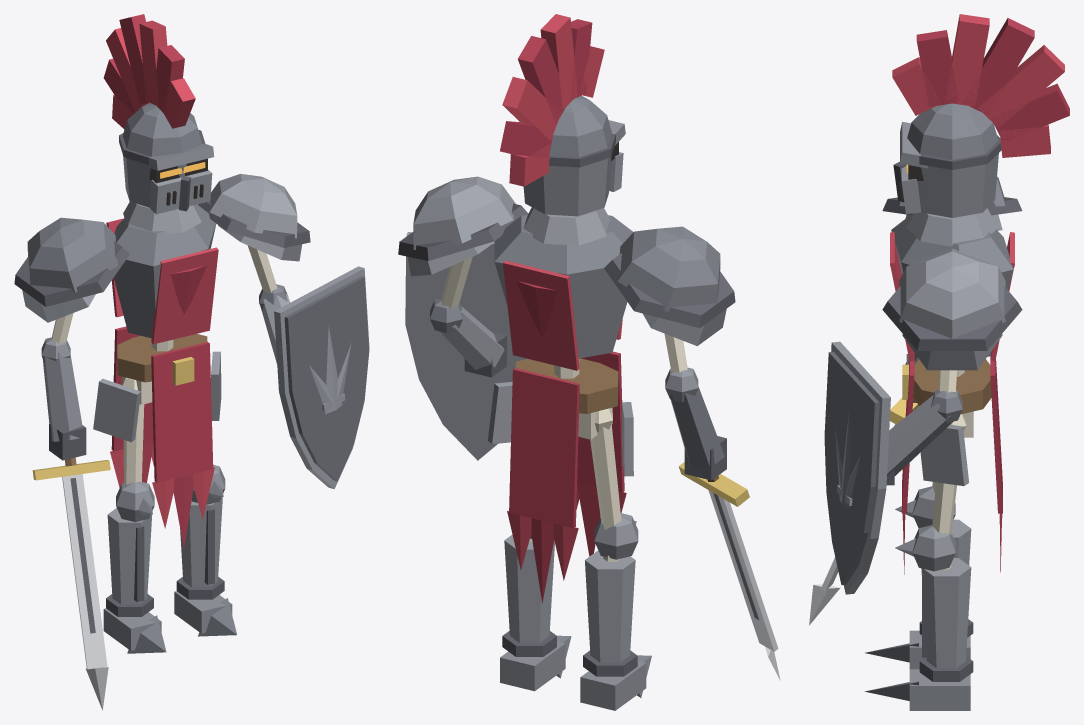
File: rattlecoat.glb
3 views of the same model, side by side, from view 1: azimuth 30°, elevation 25°; view 2: azimuth 150°, elevation 25°; view 3: azimuth 270°, elevation 25° (orthographic). The views are drawn at different scales.
Visible parts, largest first — view 1: rattlecoat_3_mat_5a5f6b, rattlecoat_2_mat_3d414b, rattlecoat_8_mat_840f1a, rattlecoat_12_mat_2e3038, rattlecoat_1_mat_4c505b, rattlecoat_7_mat_b01622, rattlecoat_4_mat_23242b, rattlecoat_11_mat_c4c9d2, rattlecoat_0_mat_eadcb6, rattlecoat_5_mat_4a2c16, rattlecoat_6_mat_d8a030, rattlecoat_9_glow_060505; view 2: rattlecoat_3_mat_5a5f6b, rattlecoat_8_mat_840f1a, rattlecoat_2_mat_3d414b, rattlecoat_1_mat_4c505b, rattlecoat_7_mat_b01622, rattlecoat_4_mat_23242b, rattlecoat_0_mat_eadcb6, rattlecoat_5_mat_4a2c16, rattlecoat_11_mat_c4c9d2, rattlecoat_6_mat_d8a030; view 3: rattlecoat_3_mat_5a5f6b, rattlecoat_1_mat_4c505b, rattlecoat_7_mat_b01622, rattlecoat_8_mat_840f1a, rattlecoat_2_mat_3d414b, rattlecoat_12_mat_2e3038, rattlecoat_4_mat_23242b, rattlecoat_5_mat_4a2c16, rattlecoat_0_mat_eadcb6, rattlecoat_11_mat_c4c9d2, rattlecoat_6_mat_d8a030.
Part boxes in pixels (bbox=[...]): rattlecoat_3_mat_5a5f6b: bbox=[22, 169, 369, 604]; rattlecoat_2_mat_3d414b: bbox=[27, 102, 288, 653]; rattlecoat_8_mat_840f1a: bbox=[103, 14, 213, 547]; rattlecoat_12_mat_2e3038: bbox=[284, 276, 369, 481]; rattlecoat_1_mat_4c505b: bbox=[41, 143, 302, 650]; rattlecoat_7_mat_b01622: bbox=[106, 20, 218, 528]; rattlecoat_4_mat_23242b: bbox=[14, 130, 310, 633]; rattlecoat_11_mat_c4c9d2: bbox=[62, 474, 108, 710]; rattlecoat_0_mat_eadcb6: bbox=[51, 245, 277, 484]; rattlecoat_5_mat_4a2c16: bbox=[65, 334, 207, 466]; rattlecoat_6_mat_d8a030: bbox=[32, 357, 194, 480]; rattlecoat_9_glow_060505: bbox=[149, 158, 207, 205]; rattlecoat_3_mat_5a5f6b: bbox=[405, 152, 726, 662]; rattlecoat_8_mat_840f1a: bbox=[500, 19, 624, 603]; rattlecoat_2_mat_3d414b: bbox=[430, 95, 724, 697]; rattlecoat_1_mat_4c505b: bbox=[407, 120, 698, 710]; rattlecoat_7_mat_b01622: bbox=[502, 14, 626, 580]; rattlecoat_4_mat_23242b: bbox=[398, 133, 759, 676]; rattlecoat_0_mat_eadcb6: bbox=[441, 257, 687, 561]; rattlecoat_5_mat_4a2c16: bbox=[515, 358, 718, 481]; rattlecoat_11_mat_c4c9d2: bbox=[708, 490, 780, 680]; rattlecoat_6_mat_d8a030: bbox=[678, 462, 749, 506]; rattlecoat_3_mat_5a5f6b: bbox=[831, 165, 1005, 668]; rattlecoat_1_mat_4c505b: bbox=[895, 121, 1013, 710]; rattlecoat_7_mat_b01622: bbox=[890, 14, 1064, 559]; rattlecoat_8_mat_840f1a: bbox=[890, 18, 1069, 574]; rattlecoat_2_mat_3d414b: bbox=[864, 103, 1013, 700]; rattlecoat_12_mat_2e3038: bbox=[824, 351, 879, 585]; rattlecoat_4_mat_23242b: bbox=[882, 135, 1022, 681]; rattlecoat_5_mat_4a2c16: bbox=[913, 359, 991, 414]; rattlecoat_0_mat_eadcb6: bbox=[932, 370, 973, 570]; rattlecoat_11_mat_c4c9d2: bbox=[809, 424, 895, 625]; rattlecoat_6_mat_d8a030: bbox=[890, 364, 918, 424].
Size of the model in its own units: 1.35 by 2.45 by 0.8561.
